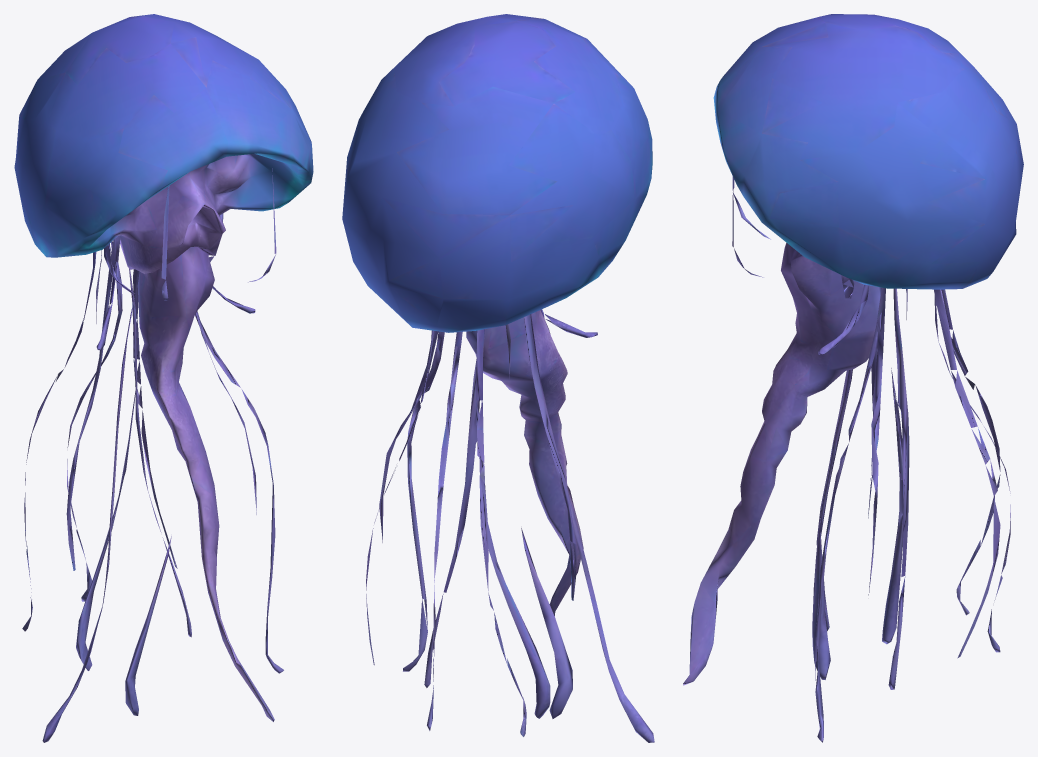
The picture shows the model from 3 angles, left to right: view 1: azimuth 30°, elevation 25°; view 2: azimuth 150°, elevation 25°; view 3: azimuth 270°, elevation 25°; orthographic projection. The views are drawn at different scales.
Size of the model in its own units: 0.7513 by 1.86 by 0.845.
Materials: 1 (1 with a texture image).
